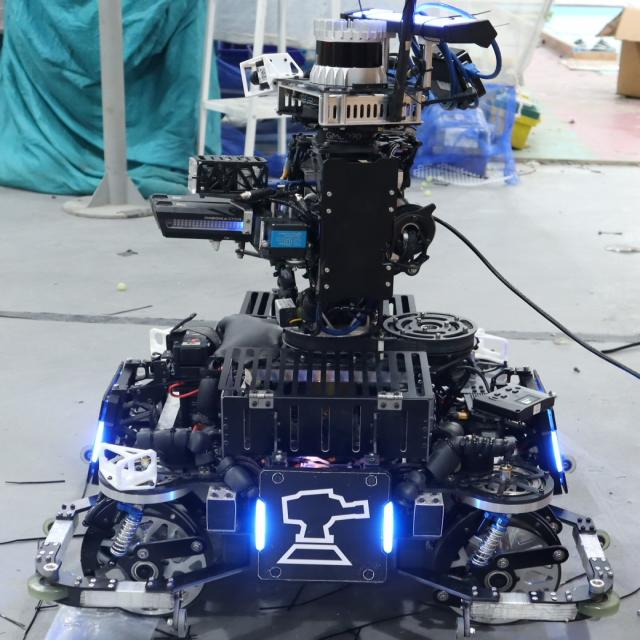Bs: (252, 464, 397, 591)
